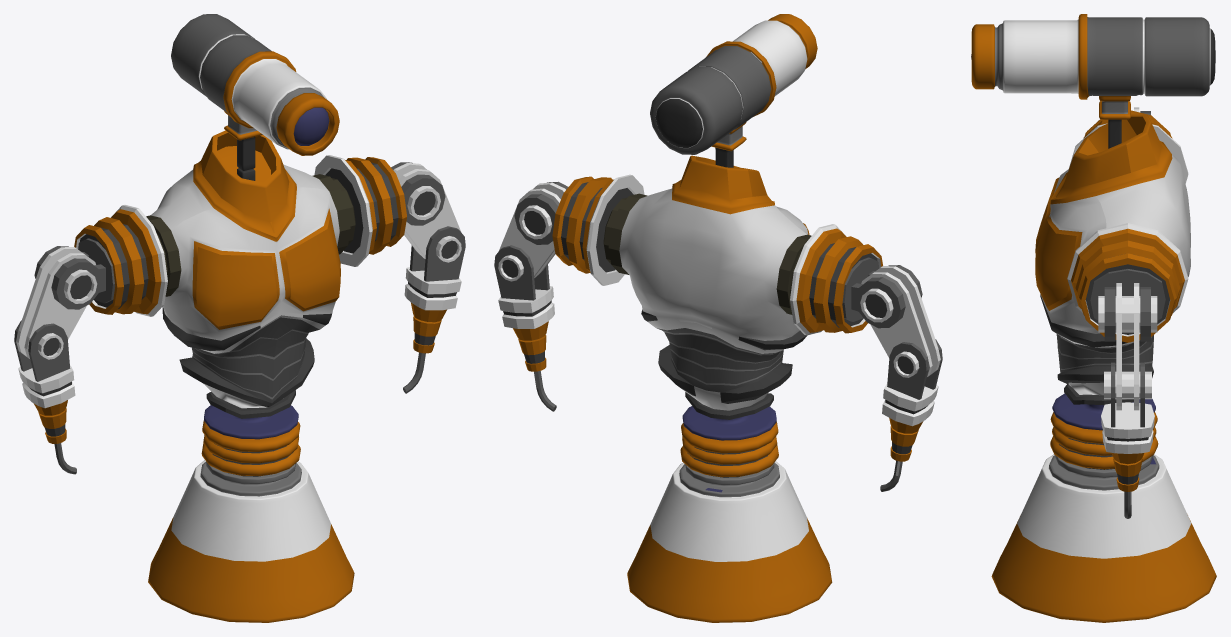
The model's file is npcRobo8.fbx.
3 views of the same model, side by side, from view 1: azimuth 30°, elevation 25°; view 2: azimuth 150°, elevation 25°; view 3: azimuth 270°, elevation 25° (orthographic). The views are drawn at different scales.
Parts seen in each view (by area): view 1: npcRobo8; view 2: npcRobo8; view 3: npcRobo8.
Part boxes in pixels (x1=…): npcRobo8: x1=14, y1=14, x2=465, y2=622; npcRobo8: x1=494, y1=14, x2=942, y2=622; npcRobo8: x1=971, y1=14, x2=1216, y2=622.
Size of the model in its own units: 56.66 by 66.38 by 26.3.
